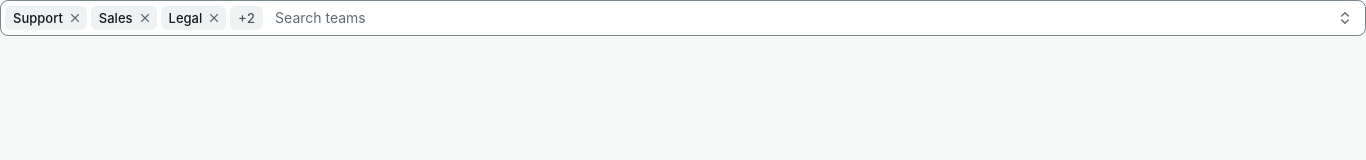
Test case: MultiSelect › shows the first chips, then +N, each with a named remove button
Expected: the text "+2" is shown, [230,6,263,30]
What coordinates should you click on to do the following:
click the button named "Remove Support"
I would click on:
 (75, 18)
Its box is [63,6,87,30].
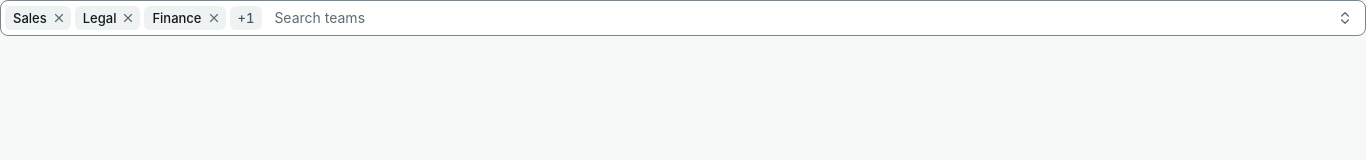
Result: the text "+1" is shown at [230,6,262,30]
